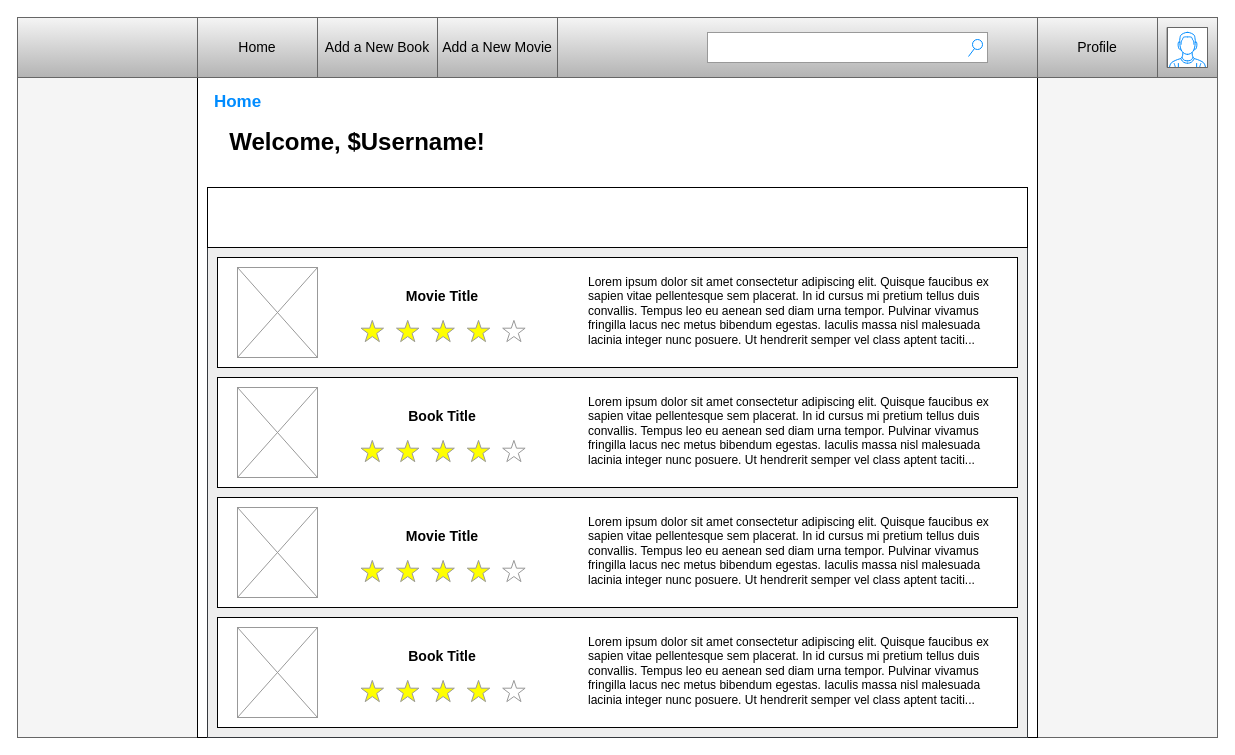
The diagram is 1235 pixels wide and 755 high, and some of its shapes have lost their labels. The centre of each missing label's shape, as x and y in pixels:
Page2Screen: the point at 107,47
Recent Reviews: the point at 617,217
Search: the point at 847,47
